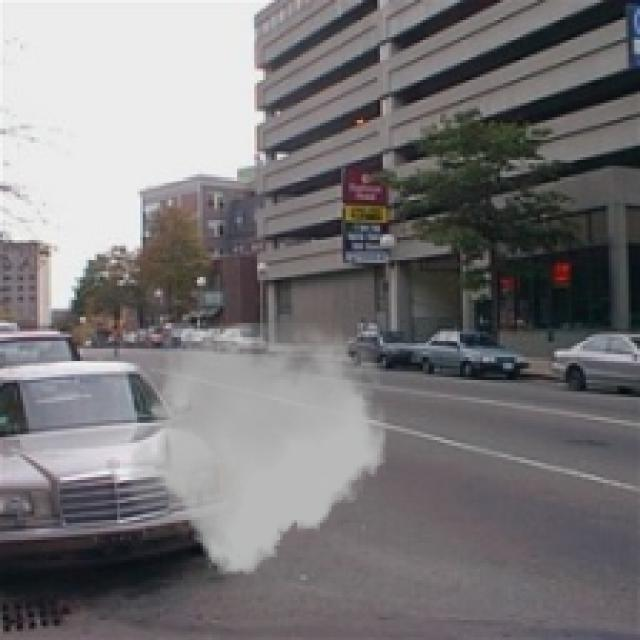smoke: (120, 323, 391, 574)
